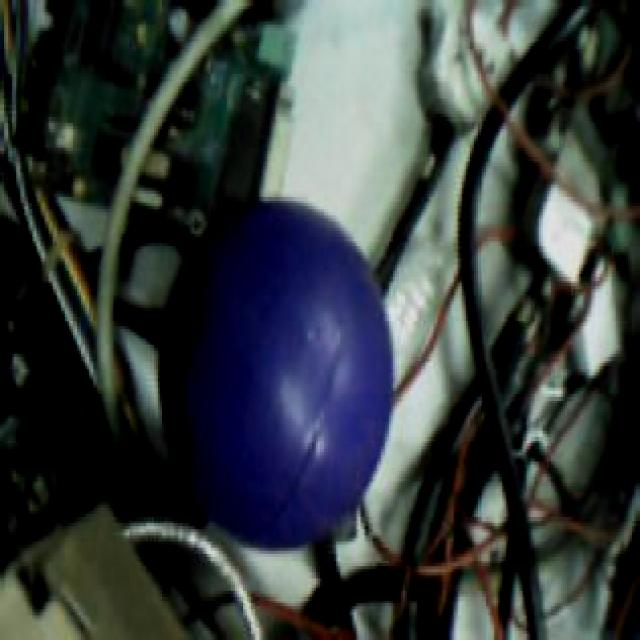BallPurple: (160, 200, 391, 548)
